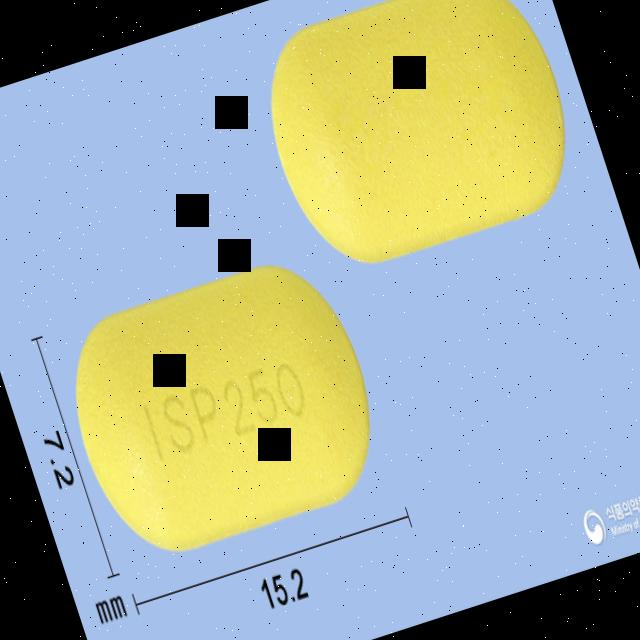Ilsung Clarithromycin - 500mg: (46, 242, 398, 570)
